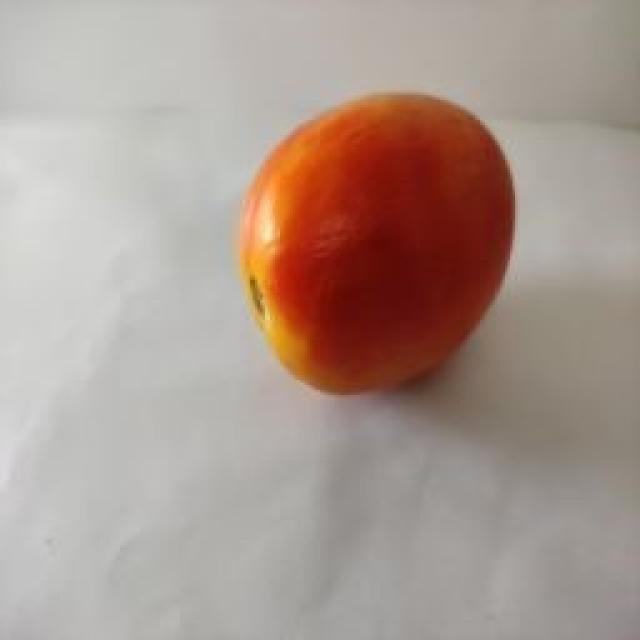Ripe: (232, 89, 518, 400)
